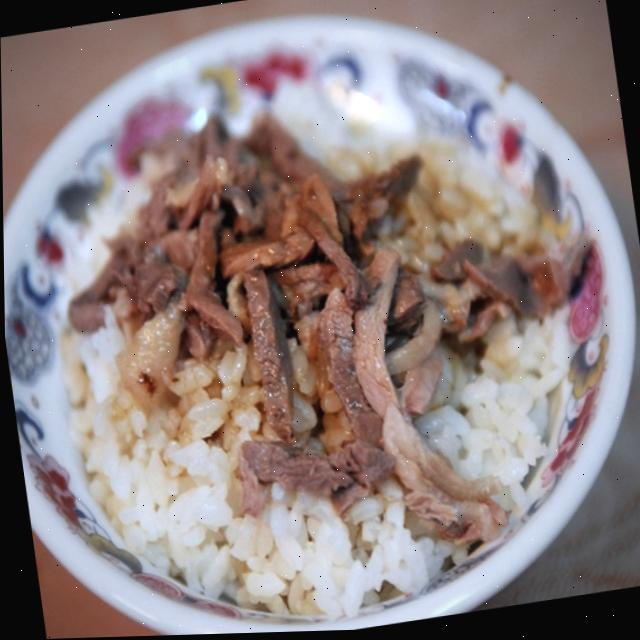米饭主食: (0, 2, 637, 640)
